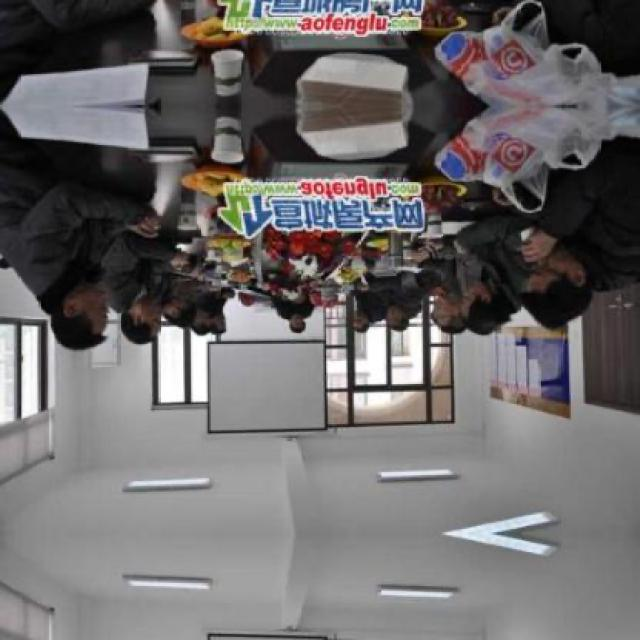sin casco: (485, 247, 586, 326), (35, 259, 112, 354), (420, 281, 498, 352), (108, 293, 170, 352), (395, 298, 453, 350), (191, 292, 226, 336), (370, 310, 418, 340)
